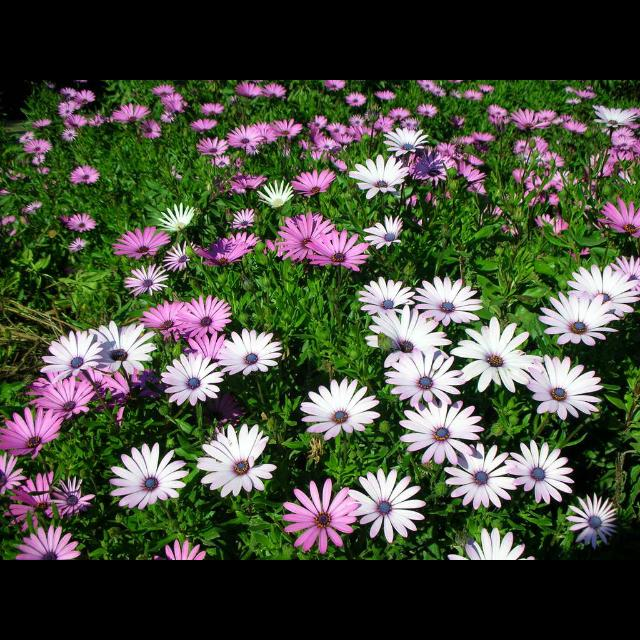Flower: (1, 80, 640, 560), (110, 441, 188, 511), (449, 528, 538, 560), (157, 541, 206, 559)
